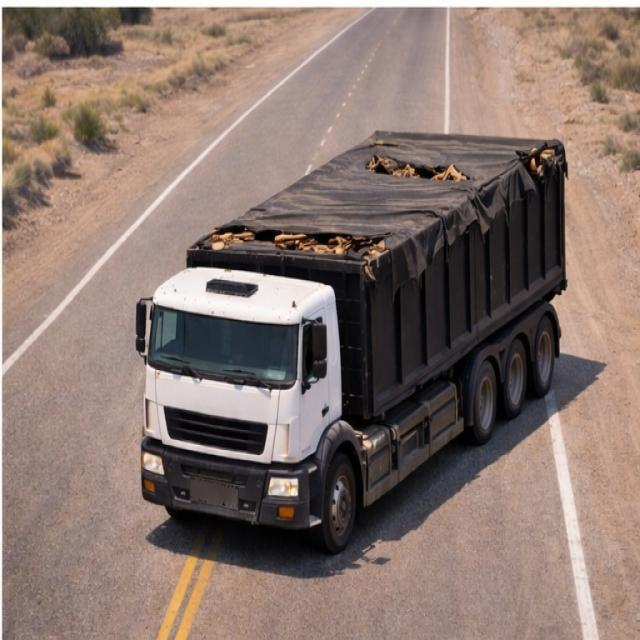Box: (186, 131, 577, 263)
Truck: (129, 112, 578, 564)
